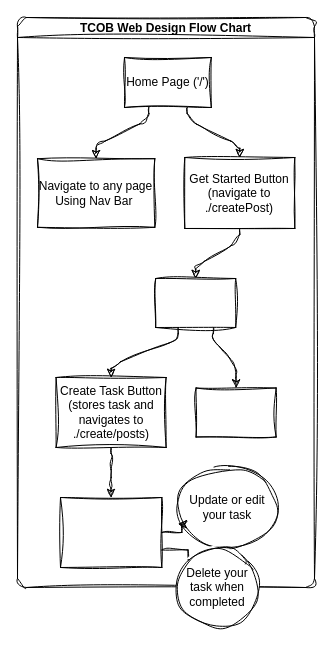
This 332x645 diagram has some shape labels left out. The centre of each missing label's shape, as x and y in pixels:
Add Task: point 195,303
Option to add due date and time: point 235,412
To Do List (View all of your tasks): point 111,532
